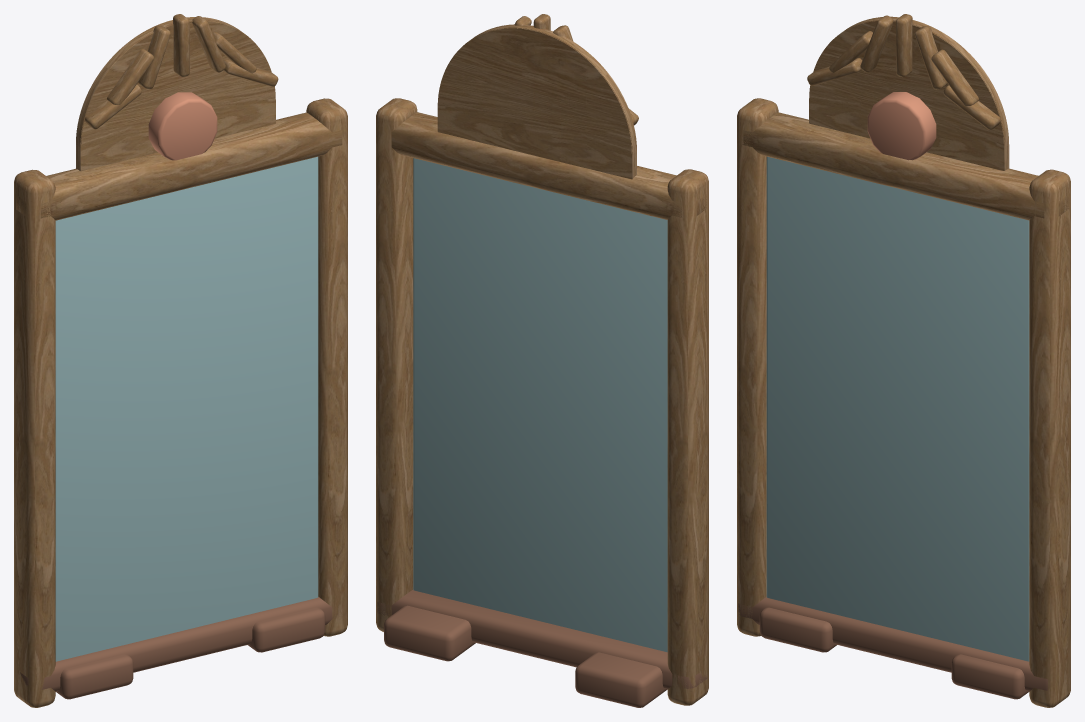
The model's file is mirror.glb.
3 renders of one model, left to right at view 1: azimuth 30°, elevation 25°; view 2: azimuth 150°, elevation 25°; view 3: azimuth 330°, elevation 25°, orthographic.
Parts seen in each view (by area): view 1: catalog_surface_UVMap, catalog_surface_RealismUV; view 2: catalog_surface_UVMap, catalog_surface_RealismUV; view 3: catalog_surface_UVMap, catalog_surface_RealismUV.
Boxes of the visible parts, x1=… form: catalog_surface_UVMap: x1=55, y1=156, x2=318, y2=661; catalog_surface_RealismUV: x1=14, y1=14, x2=347, y2=707; catalog_surface_UVMap: x1=413, y1=158, x2=667, y2=652; catalog_surface_RealismUV: x1=376, y1=14, x2=708, y2=707; catalog_surface_UVMap: x1=766, y1=156, x2=1029, y2=661; catalog_surface_RealismUV: x1=737, y1=14, x2=1070, y2=707.
Bounding box in the file's own units: 0.7 × 1.36 × 0.176.
4 materials, 1 textured.
